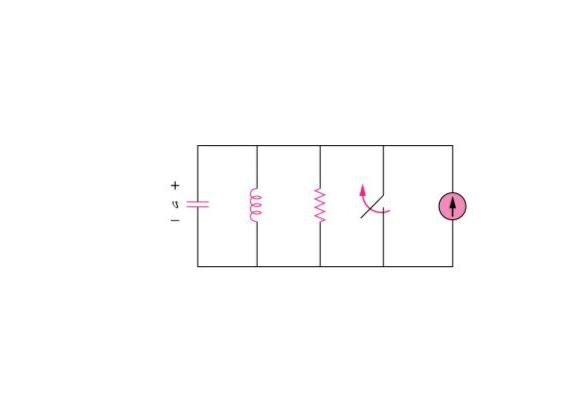resistor: (302, 178, 341, 235)
